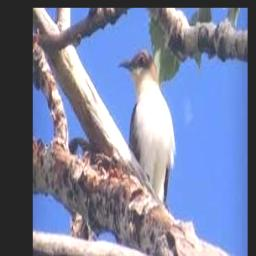Cuckoo: (117, 51, 175, 204)
